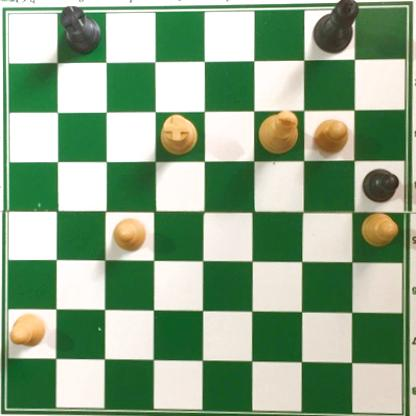black-king: (311, 1, 358, 57)
black-pawn: (360, 167, 400, 202)
black-rook: (58, 2, 103, 55)
white-king: (256, 109, 299, 157)
white-pawn: (311, 115, 349, 156), (360, 211, 399, 247), (8, 311, 46, 347), (112, 216, 147, 253)
white-rook: (158, 110, 198, 155)
